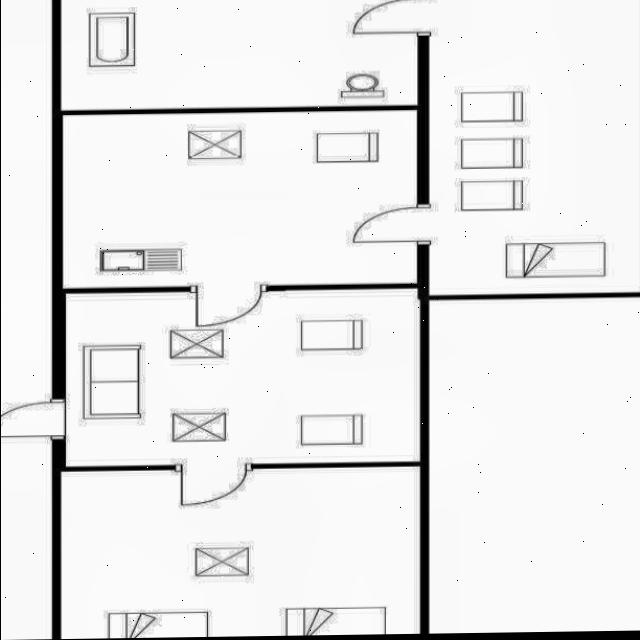room: (62, 288, 422, 467), (59, 110, 419, 289), (58, 466, 422, 639), (428, 0, 640, 295), (60, 0, 417, 111)
